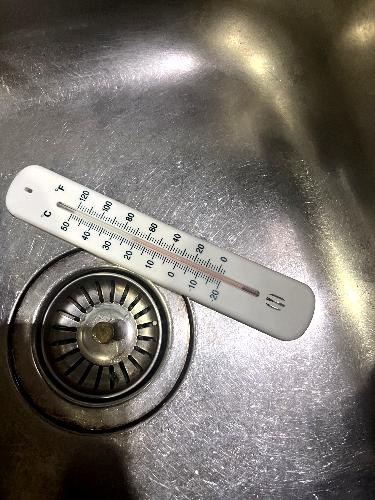thermo: (0, 154, 321, 347)
